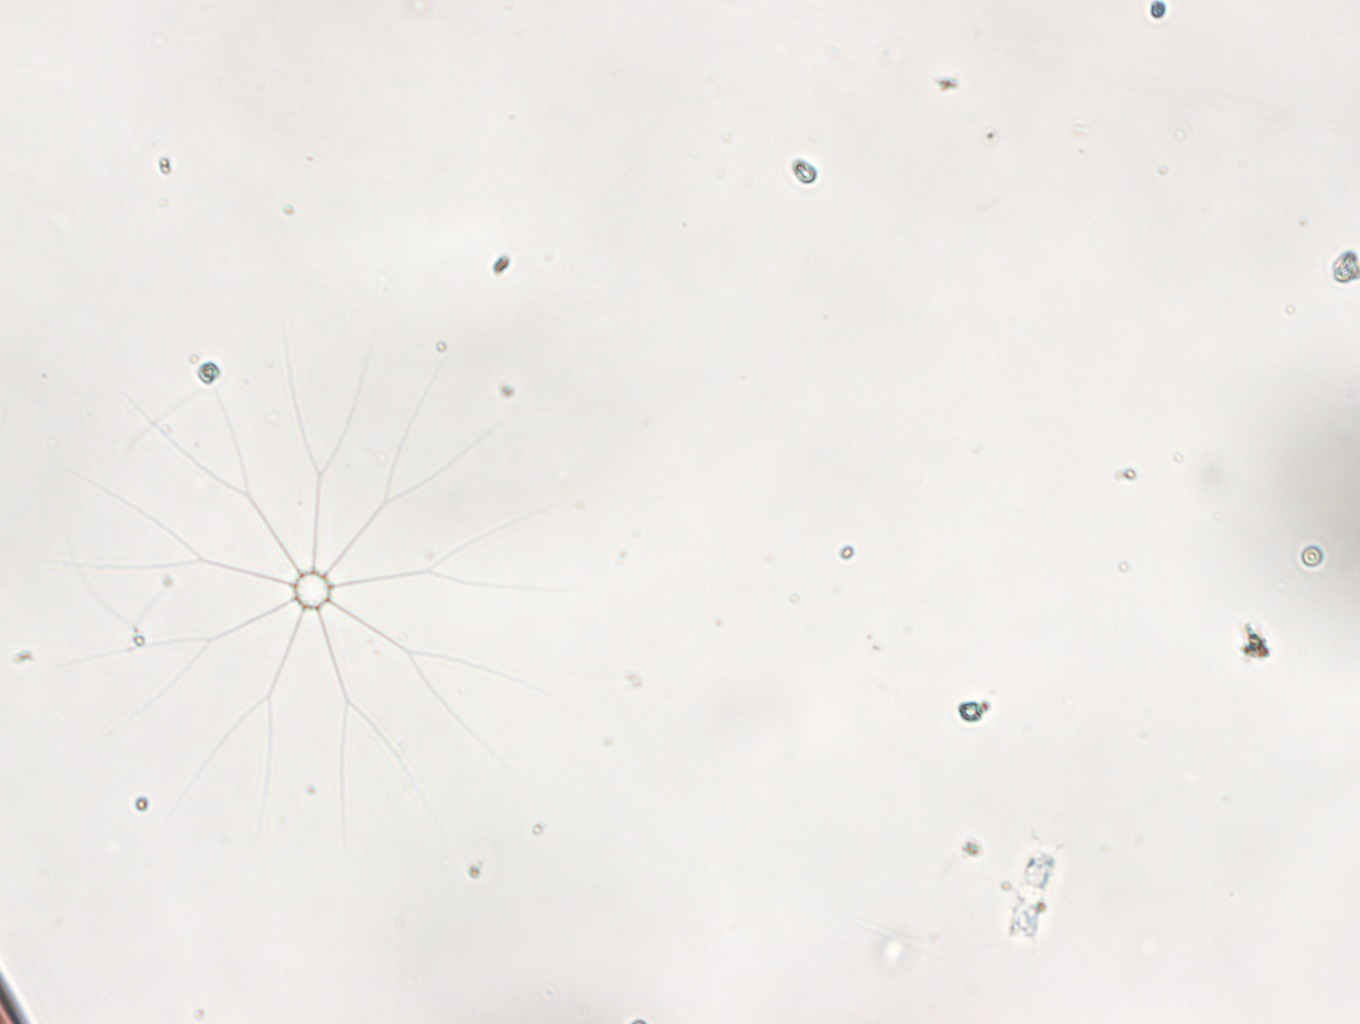bacteriastrum: (83, 342, 566, 808)
